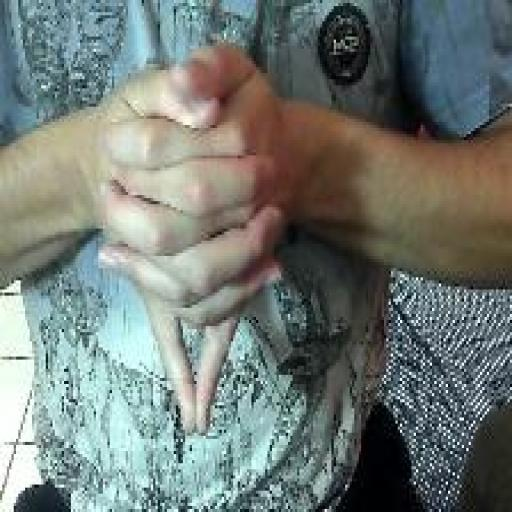Tatsu -dragon-: (93, 32, 289, 443)
